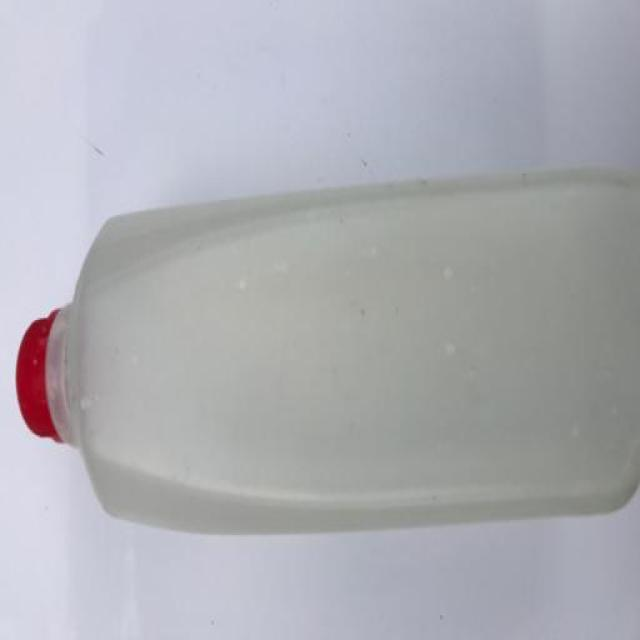inorganic: (14, 165, 640, 540)
